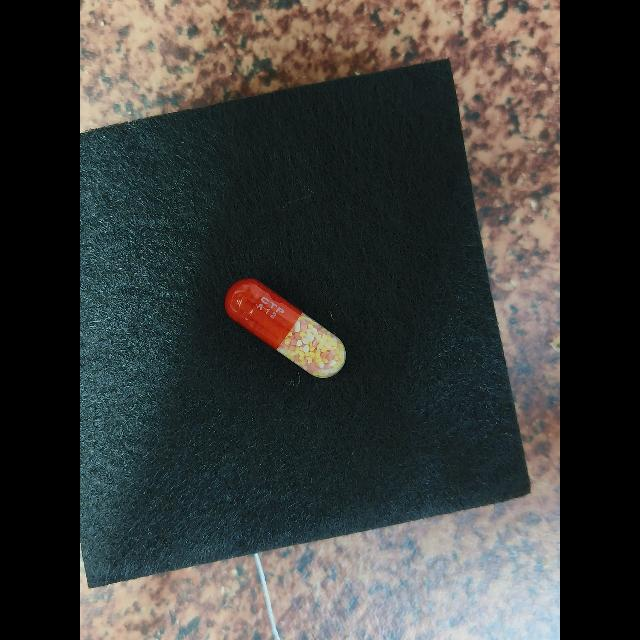Intact Capsule: (225, 278, 346, 378)
